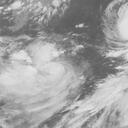cyclone: (2, 36, 80, 124), (101, 2, 127, 61)
